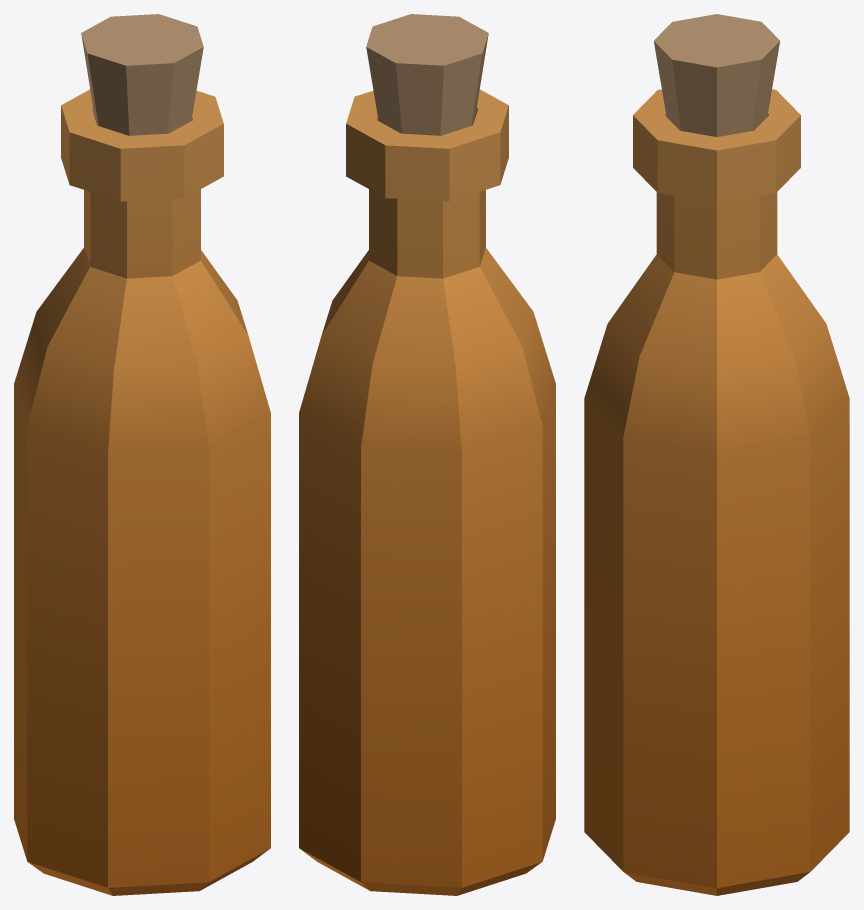
File: Bottle_12.fbx
The picture shows the model from 3 angles, left to right: view 1: azimuth 30°, elevation 25°; view 2: azimuth 150°, elevation 25°; view 3: azimuth 270°, elevation 25°; orthographic projection.
Parts seen in each view (by area): view 1: Bottle_12_LOD0; view 2: Bottle_12_LOD0; view 3: Bottle_12_LOD0.
Boxes of the visible parts, x1,y1,x2,y2 form: Bottle_12_LOD0: (14,14,270,895); Bottle_12_LOD0: (299,14,555,895); Bottle_12_LOD0: (584,14,849,895).
Size of what is drawn, in the model's own units: 0.0692 by 0.2323 by 0.0692.
